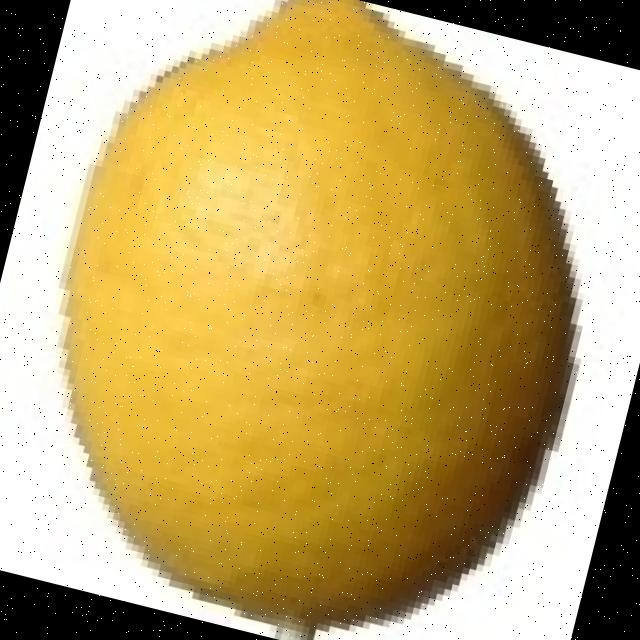lemon: (65, 0, 575, 631)
